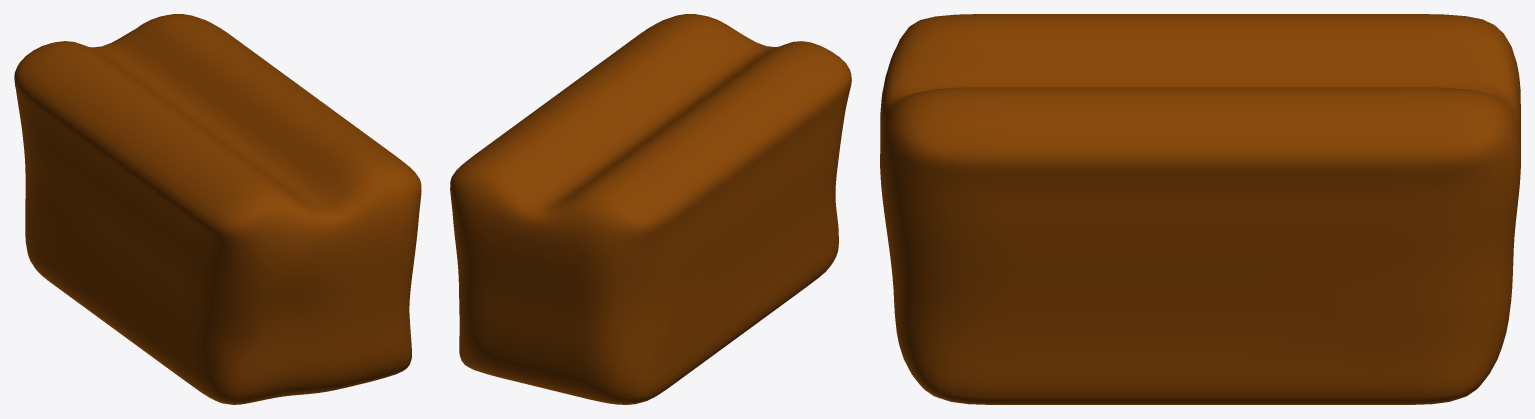
Rendered from Bread_Final.fbx.
The picture shows the model from 3 angles, left to right: view 1: azimuth 30°, elevation 25°; view 2: azimuth 150°, elevation 25°; view 3: azimuth 270°, elevation 25°; orthographic projection. The views are drawn at different scales.
Parts seen in each view (by area): view 1: Bread; view 2: Bread; view 3: Bread.
Part boxes in pixels (box(x1,y1,x2,y2)): Bread: box(14, 14, 421, 404); Bread: box(450, 14, 851, 404); Bread: box(880, 14, 1520, 404).
Size of the model in its own units: 1.04 by 1.06 by 2.1.
